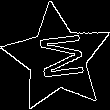M_W: (30, 32, 85, 85)
